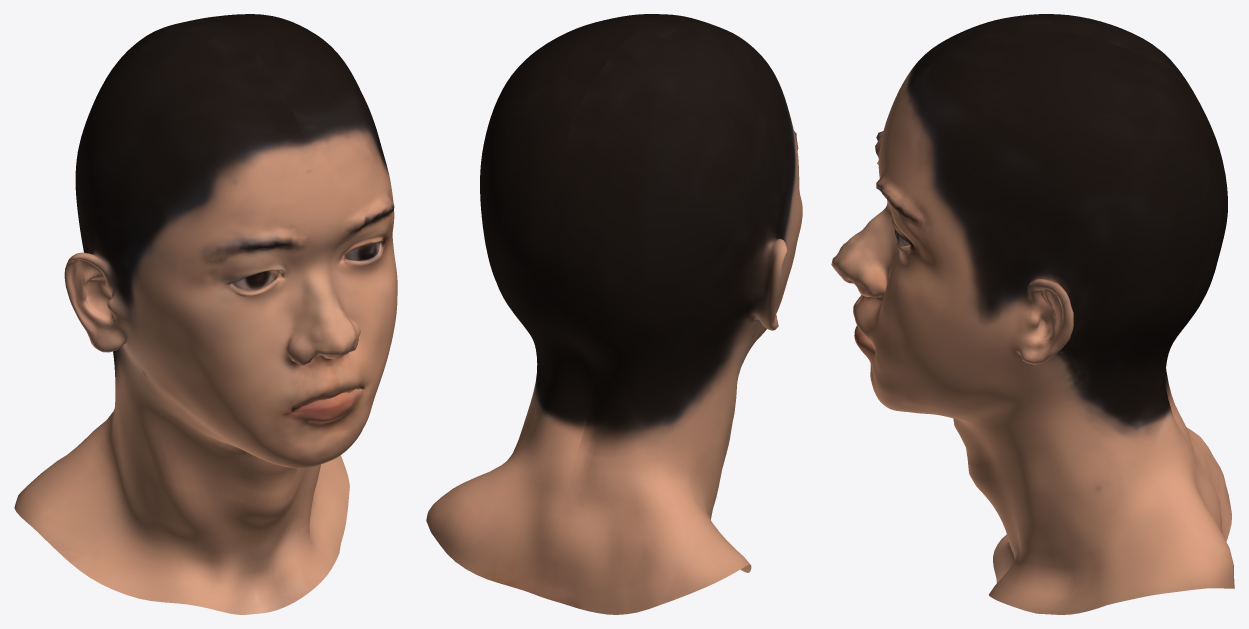
Rendered from head.glb.
The picture shows the model from 3 angles, left to right: view 1: azimuth 30°, elevation 25°; view 2: azimuth 150°, elevation 25°; view 3: azimuth 270°, elevation 25°; orthographic projection. The views are drawn at different scales.
Parts seen in each view (by area): view 1: FBHead; view 2: FBHead; view 3: FBHead.
Part boxes in pixels (x1,y1,x2,y2): FBHead: (14, 14, 397, 614); FBHead: (426, 14, 802, 614); FBHead: (831, 14, 1234, 614).
Bounding box in the file's own units: 1.5 × 2.57 × 1.69.
1 material, 1 textured.
